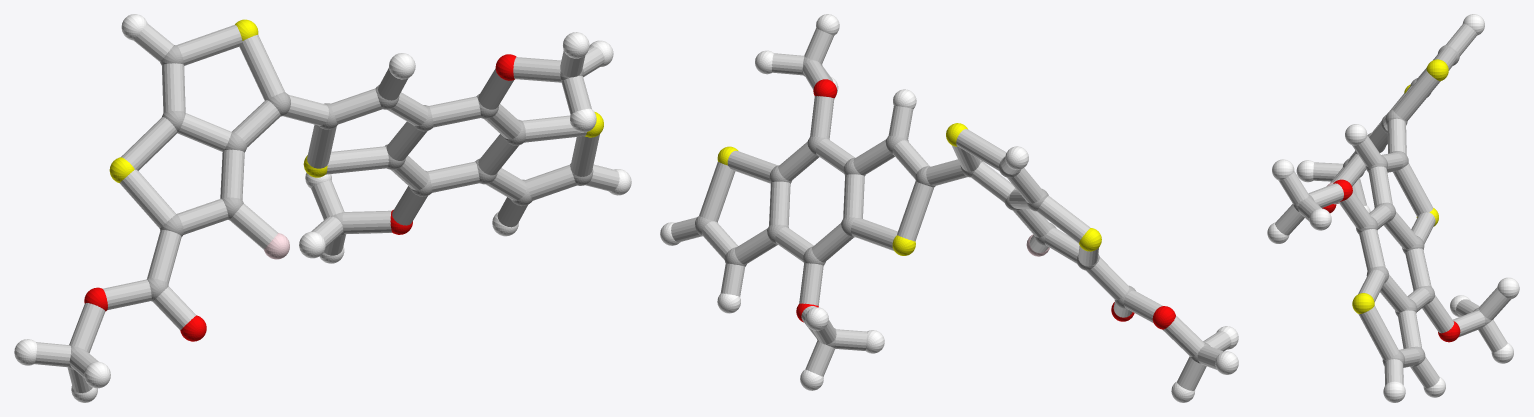
File: color.glb
3 views of the same model, side by side, from view 1: azimuth 30°, elevation 25°; view 2: azimuth 150°, elevation 25°; view 3: azimuth 270°, elevation 25° (orthographic). The views are drawn at different scales.
Visible parts, largest first — view 1: grp15205, grp8689, grp1, grp13395, grp7241; view 2: grp15205, grp8689, grp1, grp7241, grp13395; view 3: grp15205, grp8689, grp1, grp7241, grp13395.
Part boxes in pixels (x1,y1,x2,y2): grp15205: [34, 23, 619, 393]; grp8689: [14, 14, 631, 402]; grp1: [68, 45, 593, 369]; grp13395: [84, 54, 516, 341]; grp7241: [109, 19, 603, 182]; grp15205: [671, 28, 1231, 390]; grp8689: [660, 14, 1238, 402]; grp1: [695, 57, 1210, 363]; grp7241: [717, 123, 1101, 255]; grp13395: [796, 79, 1175, 329]; grp15205: [1275, 23, 1510, 388]; grp8689: [1267, 14, 1519, 402]; grp1: [1293, 45, 1491, 367]; grp7241: [1352, 59, 1448, 314]; grp13395: [1322, 179, 1460, 342].
Bounding box in the file's own units: 16.32 × 7.71 × 6.77.
